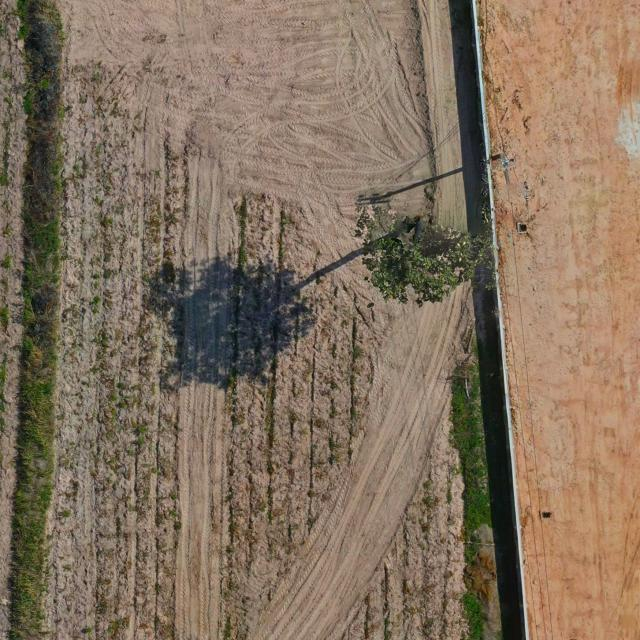Tree: (362, 213, 497, 304)
